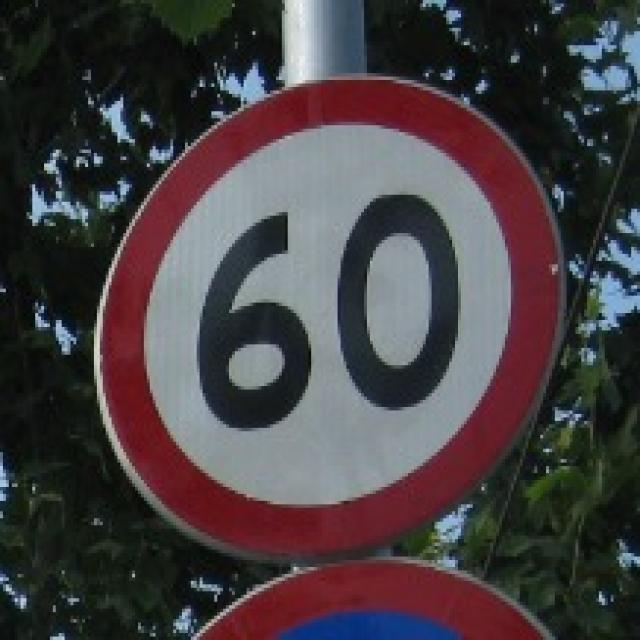Speed Limit -60-: (195, 189, 465, 436)
